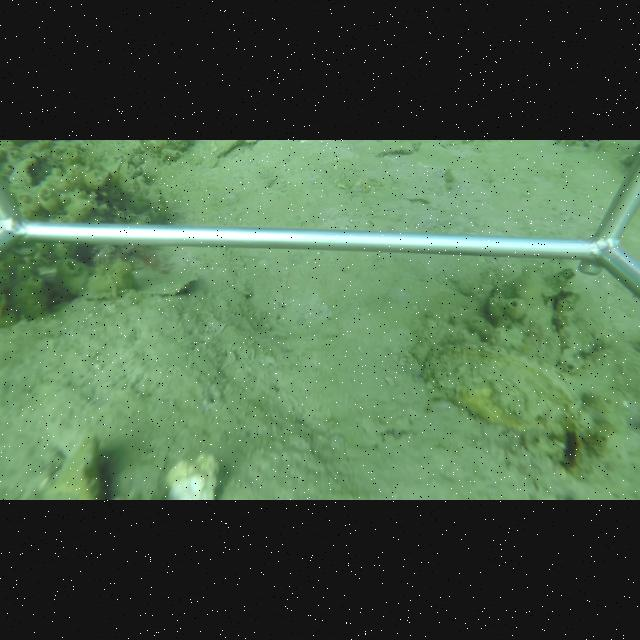Oyster-Closed: (425, 342, 590, 436)
